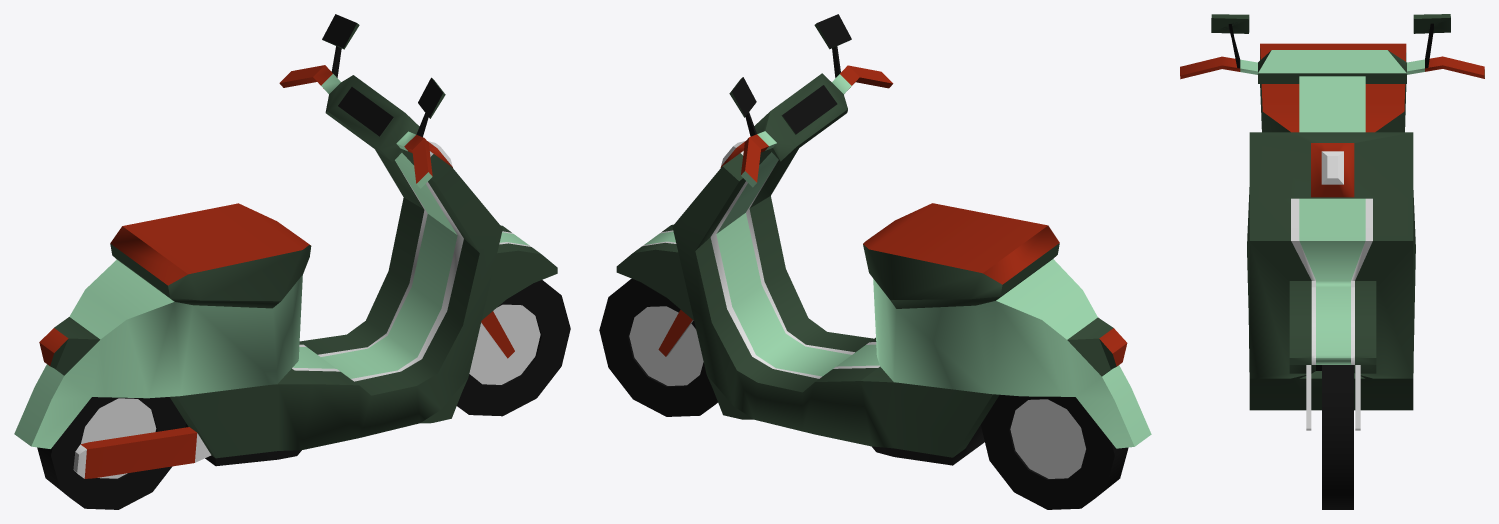
File: Electricscooter_M_v1_Carrie.FBX
3 views of the same model, side by side, from view 1: azimuth 30°, elevation 25°; view 2: azimuth 150°, elevation 25°; view 3: azimuth 270°, elevation 25° (orthographic). The views are drawn at different scales.
Visible parts, largest first — view 1: scooter_base, scooter_wheel; view 2: scooter_base, scooter_wheel; view 3: scooter_base, scooter_wheel.
Part boxes in pixels (box(x1,y1,x2,y2)): scooter_base: box(14, 14, 557, 478); scooter_wheel: box(37, 280, 570, 509); scooter_base: box(616, 14, 1151, 465); scooter_wheel: box(599, 278, 1128, 509); scooter_base: box(1180, 14, 1484, 430); scooter_wheel: box(1322, 365, 1353, 509).
Bounding box in the file's own units: 487 × 334 × 214.
